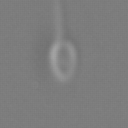normal: (48, 1, 77, 36)
